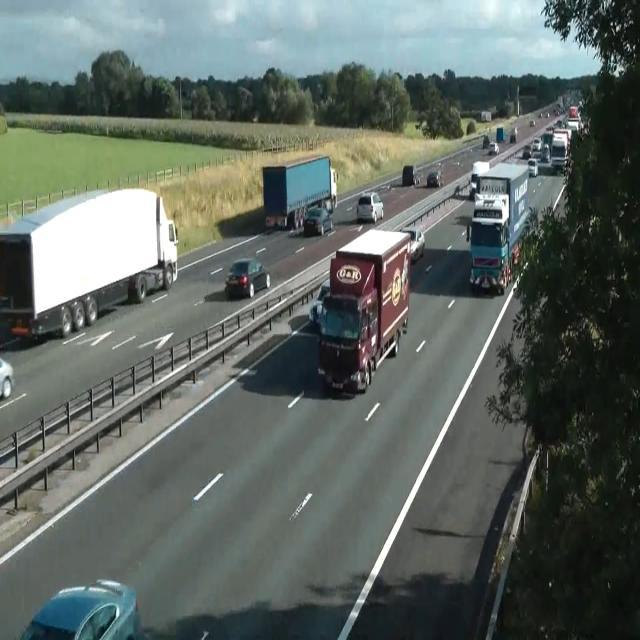bus: (20, 578, 141, 639), (225, 258, 271, 298), (308, 276, 330, 326), (302, 206, 332, 236), (400, 228, 425, 263), (0, 357, 14, 399), (426, 169, 444, 187), (528, 157, 538, 177), (488, 140, 499, 154), (531, 136, 541, 151), (522, 144, 532, 158), (509, 126, 517, 143), (569, 105, 579, 117), (482, 135, 490, 149), (553, 106, 561, 116), (529, 119, 535, 126)
jeep: (356, 190, 384, 223), (401, 163, 421, 186)
minibus: (0, 185, 178, 341), (317, 228, 411, 393), (466, 161, 530, 295), (262, 154, 338, 231), (469, 161, 489, 199), (481, 110, 491, 122)
